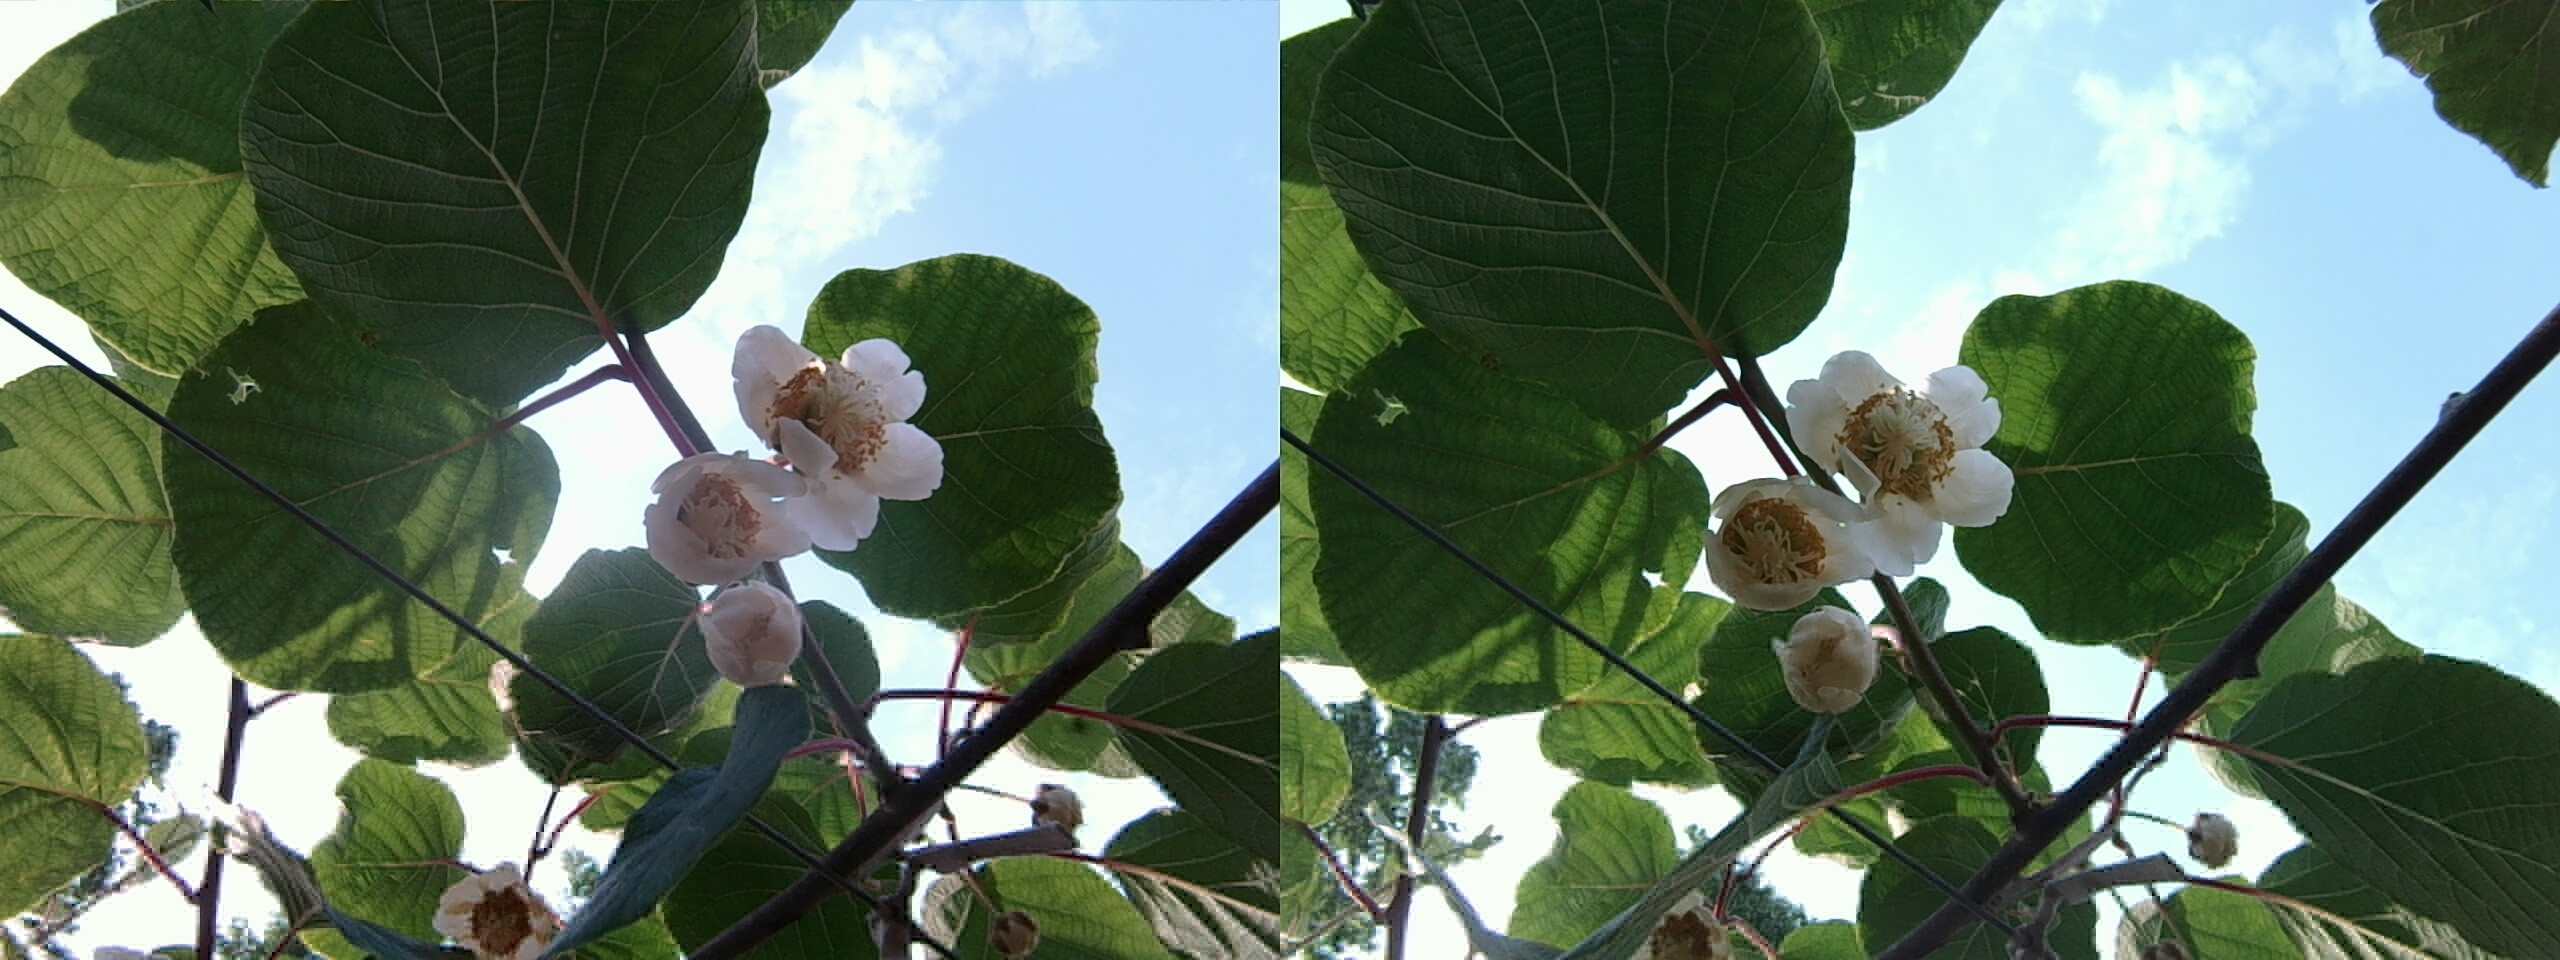flower: (1794, 340, 2015, 545), (738, 322, 937, 521), (1704, 473, 1917, 601), (651, 447, 846, 580)
